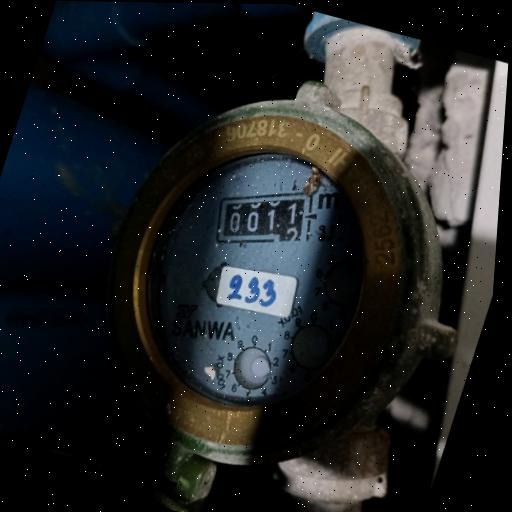0: (233, 195, 273, 240), (216, 198, 254, 241)
1: (269, 193, 314, 248), (255, 196, 292, 240)
border_water_meter_number: (199, 168, 327, 266)
